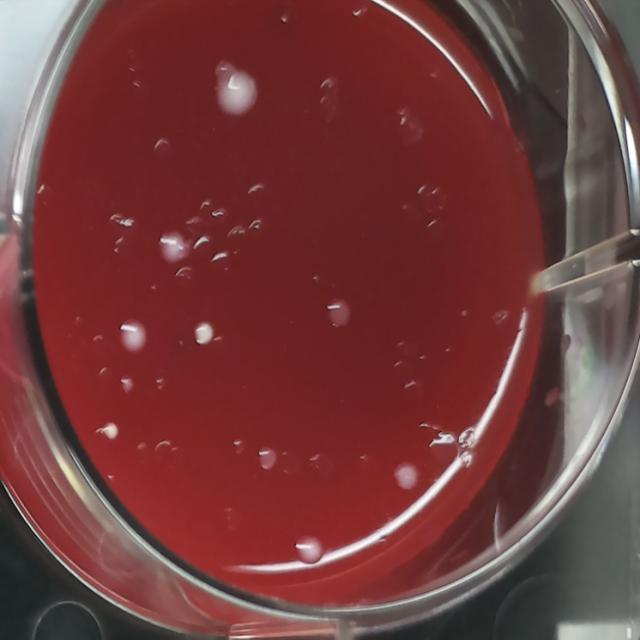Pseudoalteromonas: (324, 296, 353, 334), (254, 443, 278, 475)
Staphylococcus: (192, 320, 215, 348), (103, 420, 120, 442)
